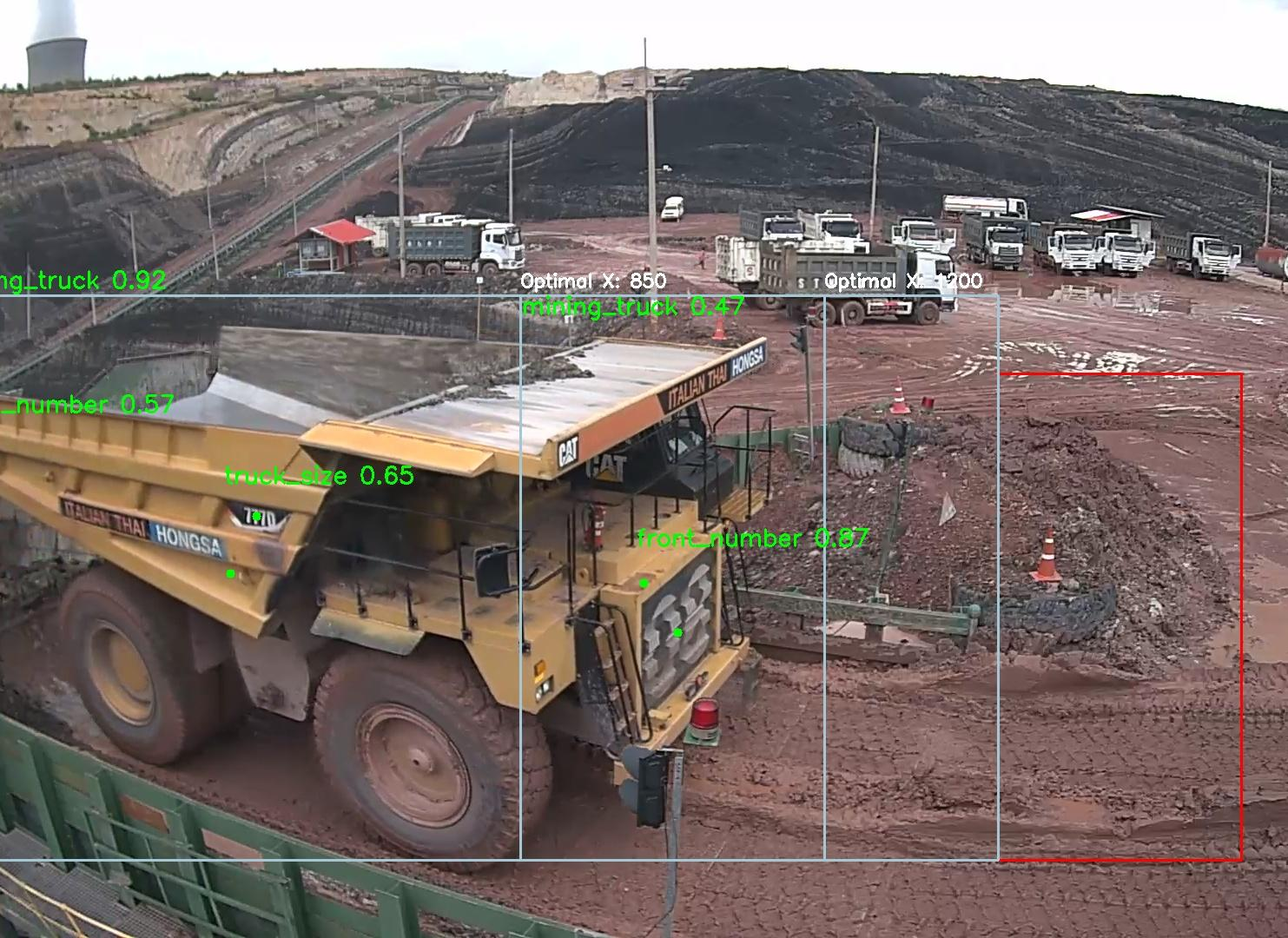company: (57, 488, 231, 568)
empty_load: (141, 328, 484, 462)
mining_truck: (1, 280, 789, 862)
truck_size: (227, 489, 285, 542)
